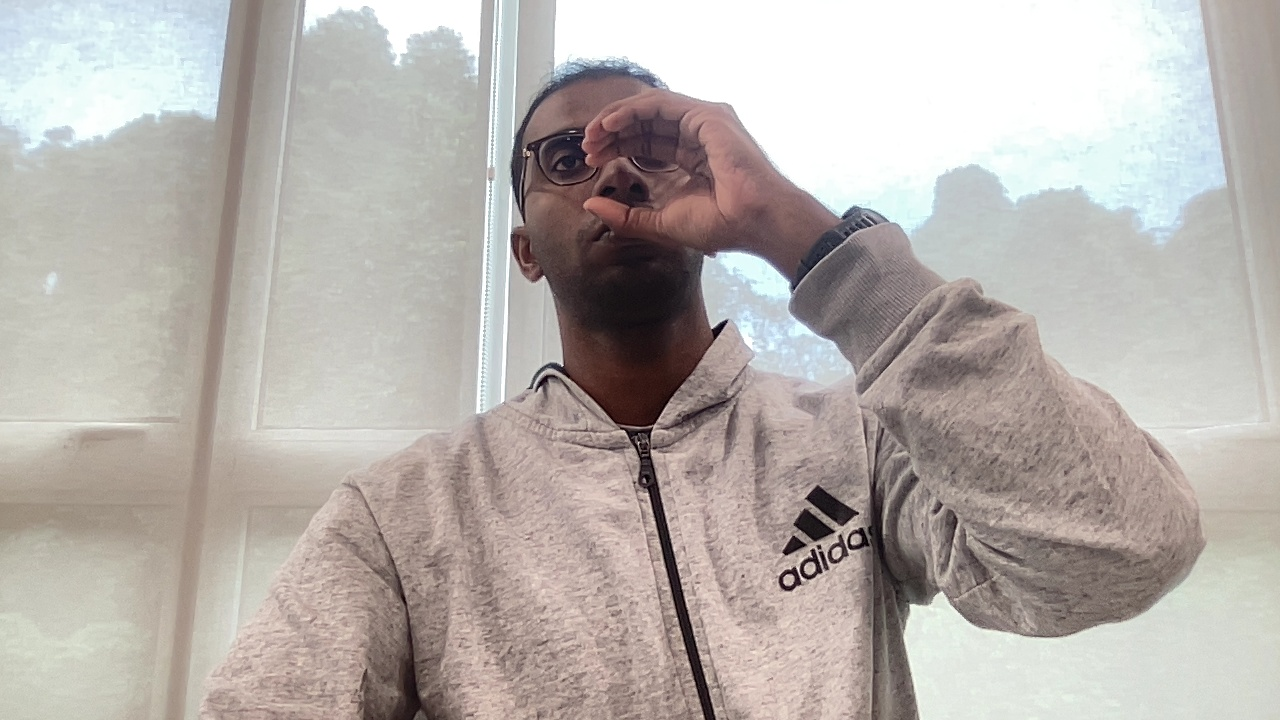drink: (578, 84, 794, 263)
